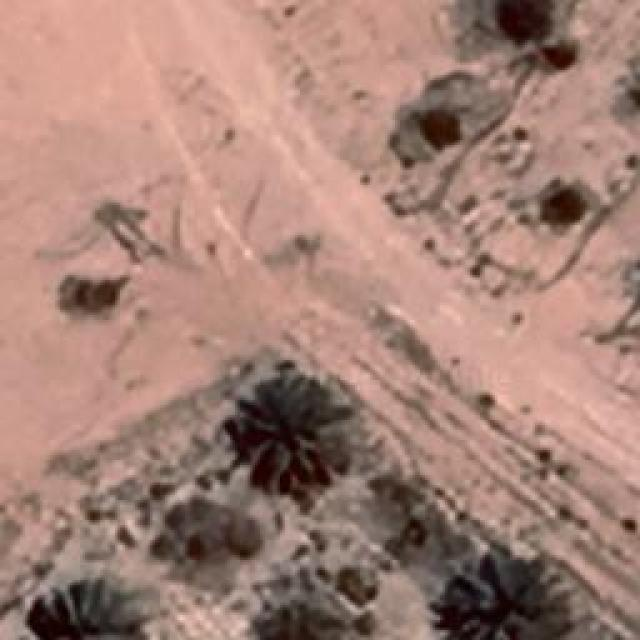PalmTree: (238, 377, 338, 485), (19, 576, 158, 640), (450, 560, 562, 638), (246, 601, 347, 640)
